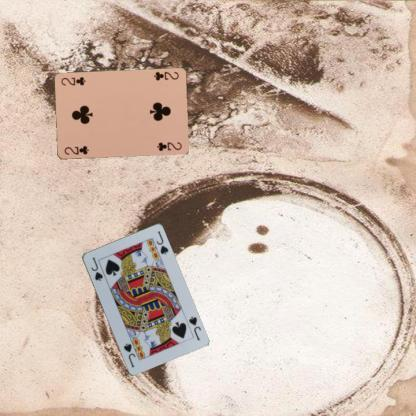2c: (151, 69, 180, 82), (62, 143, 90, 156)
Js: (88, 254, 104, 282), (186, 314, 202, 342)
